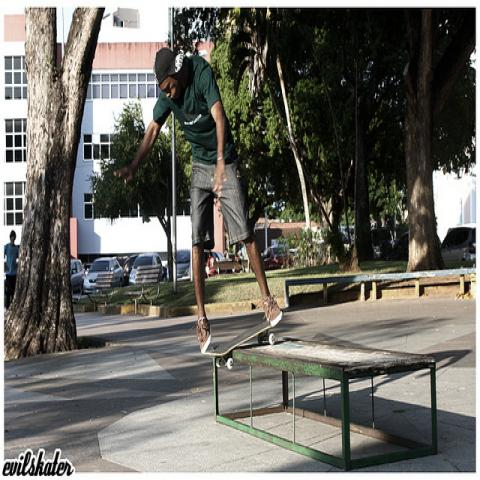car: (83, 257, 124, 293), (440, 222, 476, 262), (128, 251, 164, 284), (112, 253, 141, 286), (371, 226, 396, 258), (249, 247, 276, 273), (70, 259, 85, 296), (177, 250, 190, 282), (205, 250, 226, 266)
